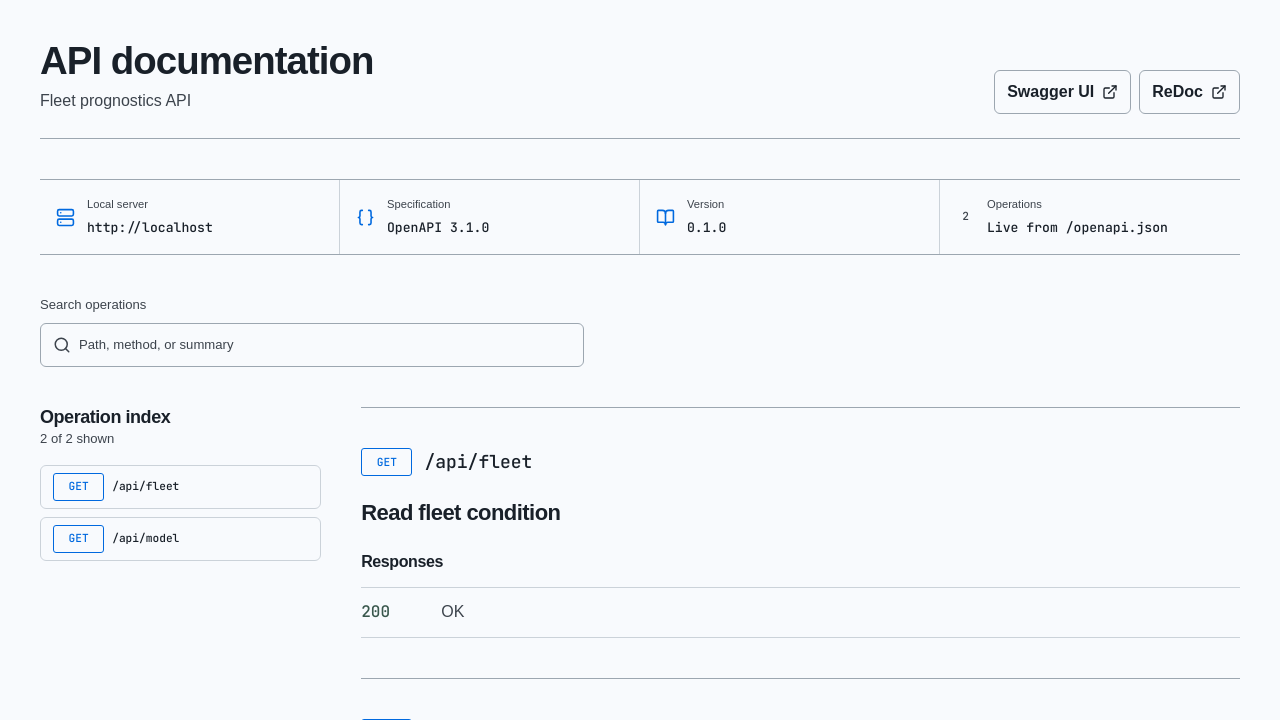
Scenario: ApiDocs › filters operations by path or summary
Expected: the text "/api/fleet" is shown 2 times, [112,479,179,493]; [424,450,532,473]
In the search field named "Search API operations": (325, 345) [79,324,571,366], type "model"
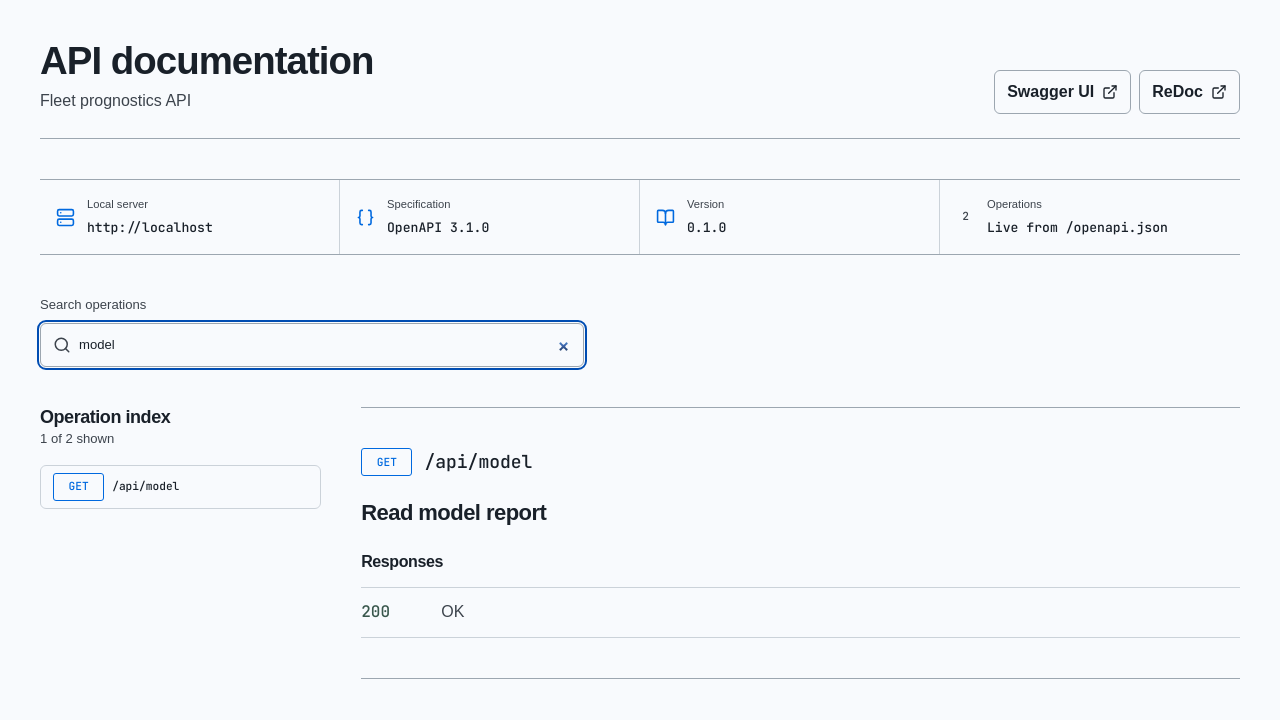
Expected: the link "/api/fleet" is gone
Expected: the text "/api/model" is shown 2 times, [112,479,179,493]; [424,450,532,473]
